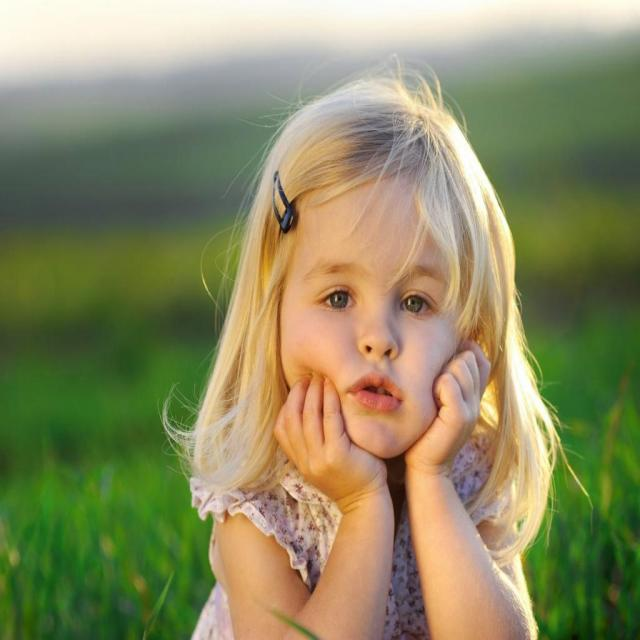child: (179, 80, 560, 640)
